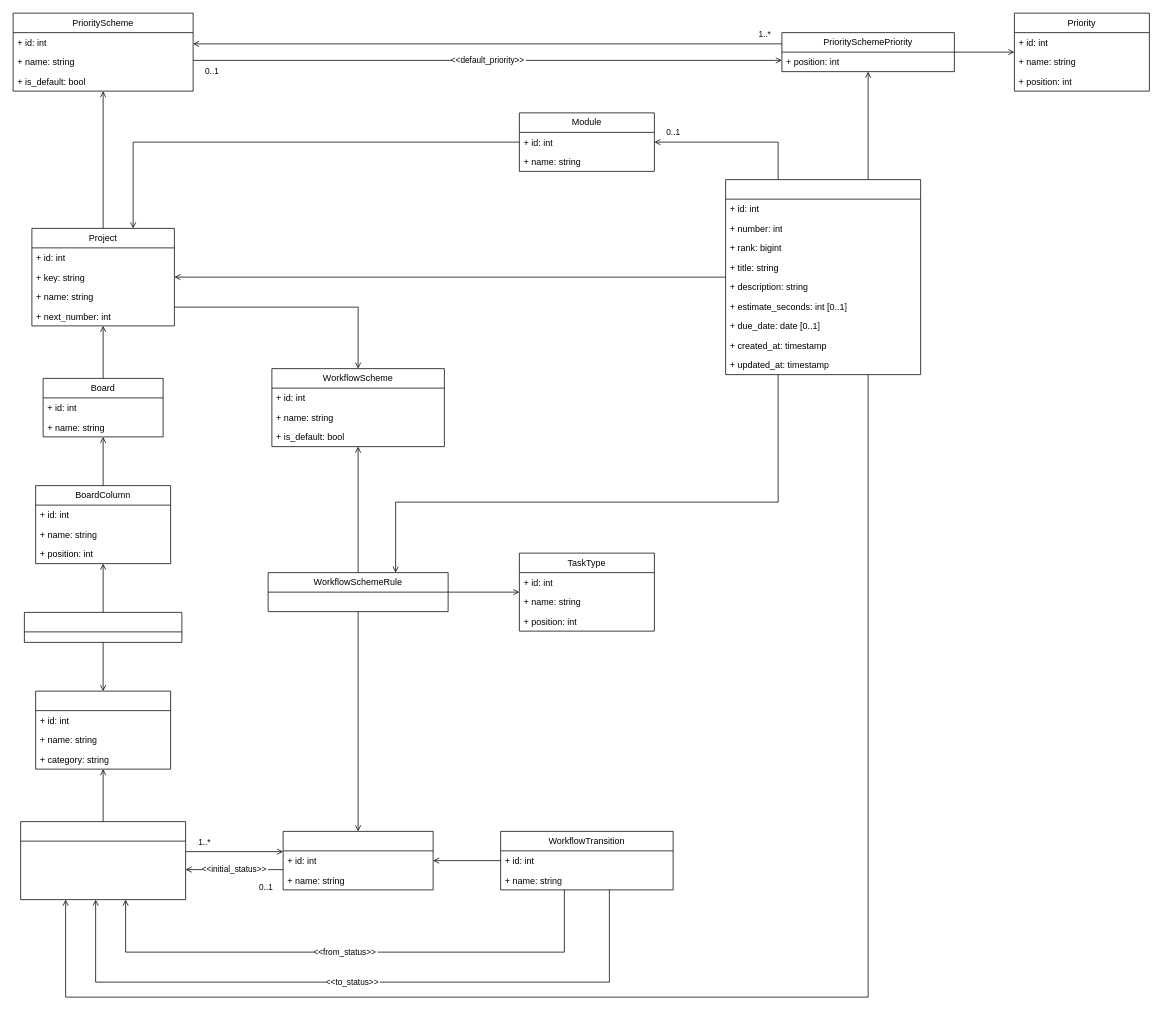
Some shapes in this 1163 by 1016 pixel diagram are drawn without their labels. The shapes that lost their labels are listed below. From the top down, each one's box as (x1, y1, x2, y2) in pixels, then its label:
(725, 179, 921, 375): Task
(24, 612, 182, 642): BoardColumnStatus
(35, 690, 171, 769): Status
(20, 821, 186, 900): WorkflowStatus
(282, 831, 433, 890): Workflow
